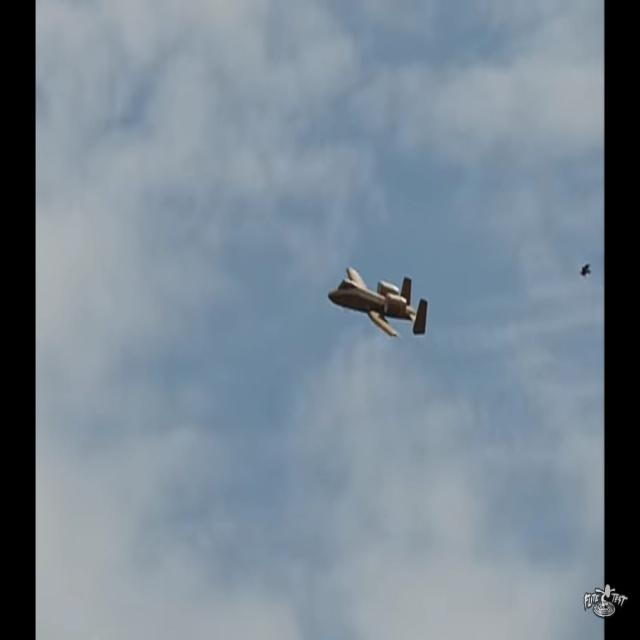iha: (360, 298, 396, 304)
